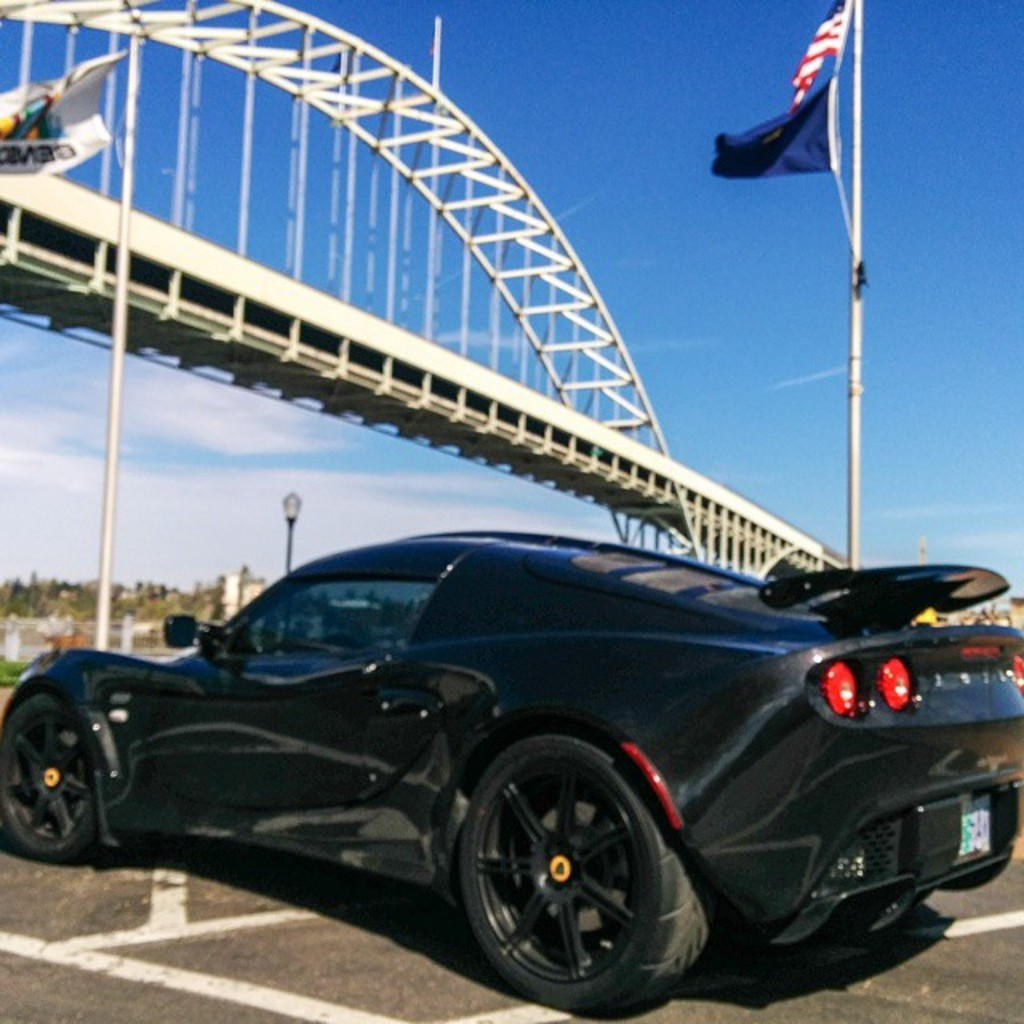Car: (0, 531, 1024, 1014)
